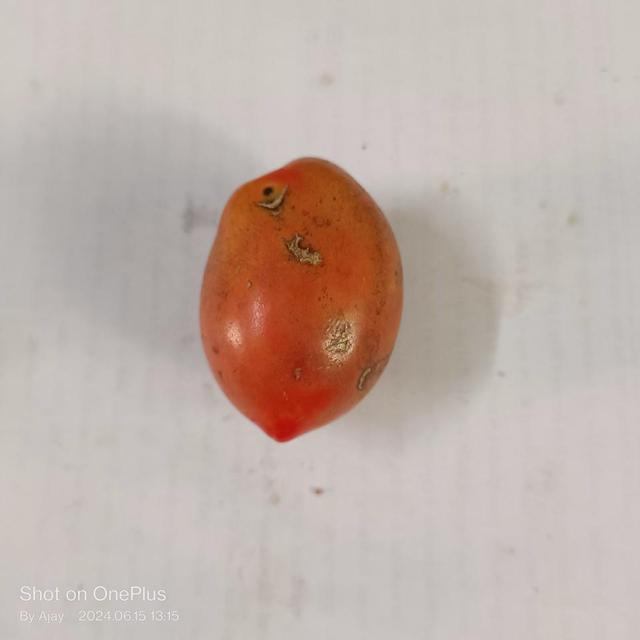Bacterial Spot Fruit: (7, 8, 225, 248)
